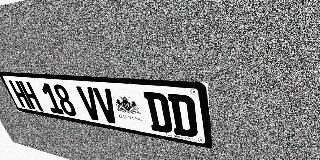1: (39, 83, 64, 115)
8: (52, 84, 78, 117)
D: (167, 94, 198, 138), (143, 91, 173, 134)
H: (19, 81, 43, 111), (8, 80, 32, 109)
V: (92, 87, 121, 125), (76, 86, 103, 122)
